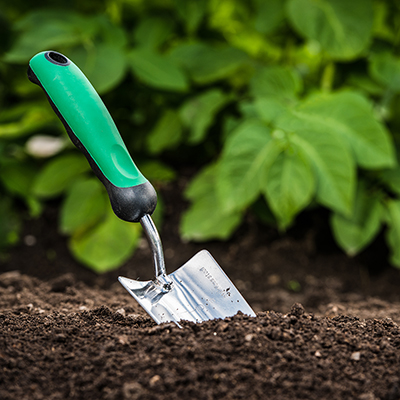dirt: (5, 320, 395, 397), (0, 267, 145, 316), (252, 280, 396, 320)
